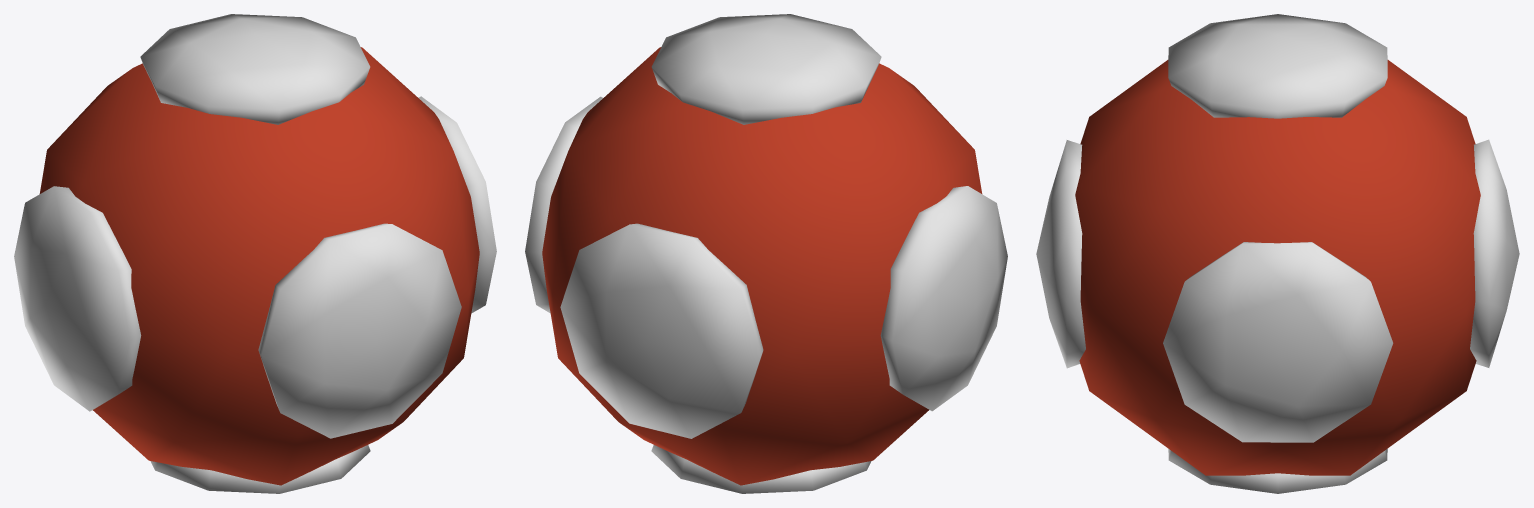
File: fungus_shot.fbx
3 views of the same model, side by side, from view 1: azimuth 30°, elevation 25°; view 2: azimuth 150°, elevation 25°; view 3: azimuth 270°, elevation 25° (orthographic).
Parts seen in each view (by area): view 1: spots; view 2: spots; view 3: spots.
Boxes of the visible parts, box(x1,y1,x2,y2) form: spots: box(14, 14, 496, 493); spots: box(525, 14, 1007, 493); spots: box(1036, 14, 1519, 493).
Size of the model in its own units: 72.5 by 72.5 by 72.5.
